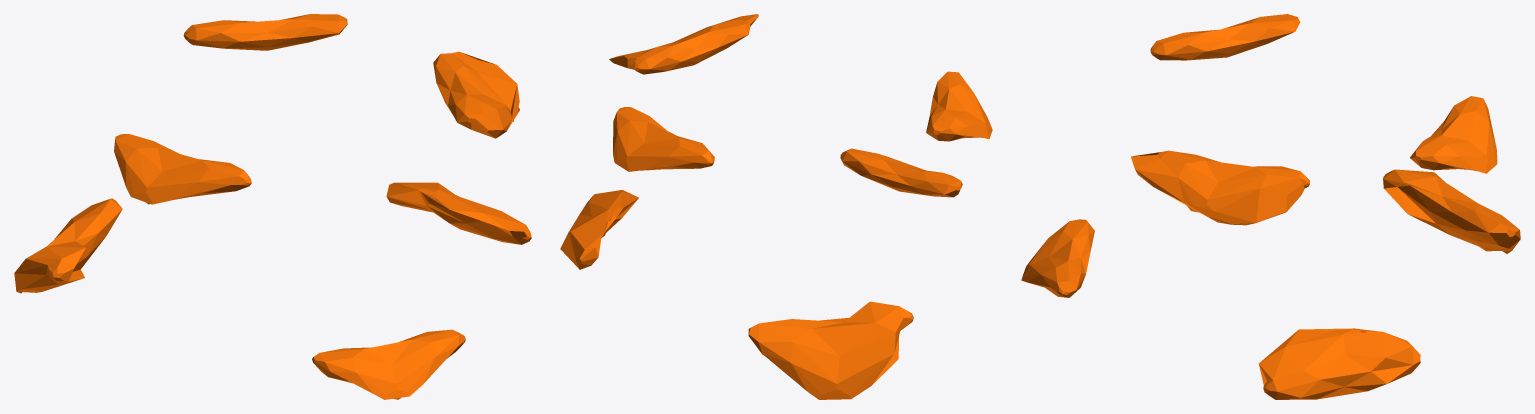
File: Beehive_honey.fbx
The picture shows the model from 3 angles, left to right: view 1: azimuth 30°, elevation 25°; view 2: azimuth 150°, elevation 25°; view 3: azimuth 270°, elevation 25°; orthographic projection. The views are drawn at different scales.
Parts seen in each view (by area): view 1: Beehive.000; view 2: Beehive.000; view 3: Beehive.000.
Part boxes in pixels (x1=…): Beehive.000: x1=14, y1=14, x2=531, y2=399; Beehive.000: x1=560, y1=14, x2=992, y2=399; Beehive.000: x1=1021, y1=14, x2=1520, y2=399.
Size of the model in its own units: 195 by 101 by 201.
